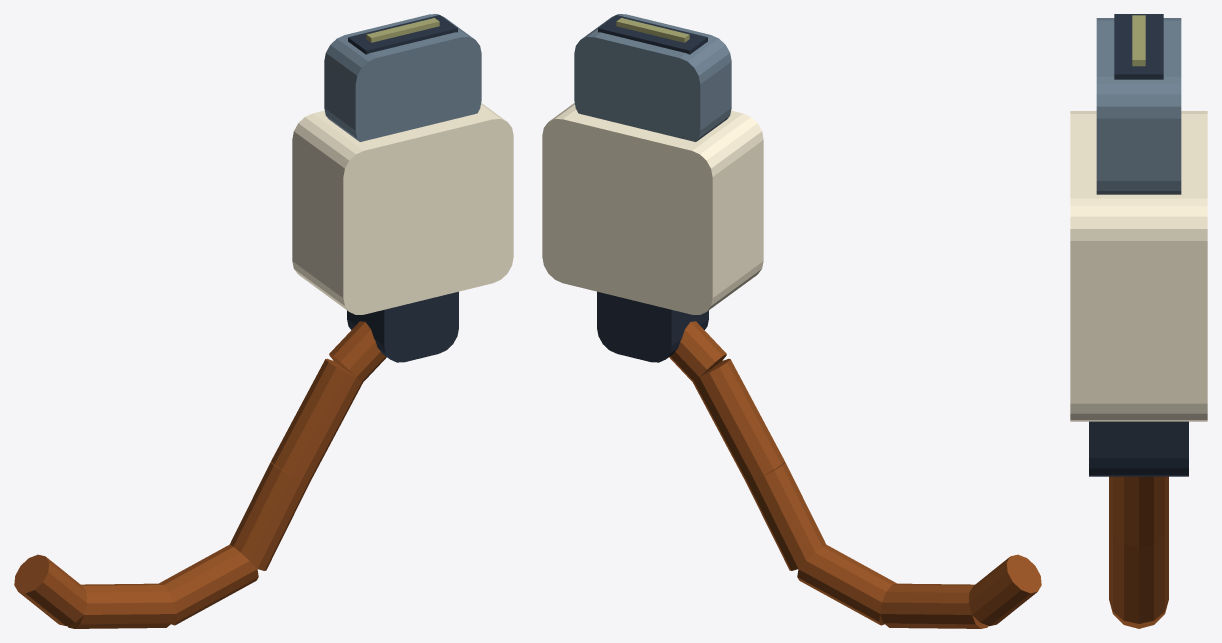
File: usbc.glb
3 views of the same model, side by side, from view 1: azimuth 30°, elevation 25°; view 2: azimuth 150°, elevation 25°; view 3: azimuth 270°, elevation 25° (orthographic). The views are drawn at different scales.
Parts seen in each view (by area): view 1: plug sleeve, metal plug, rubber cable4, strain relief, rubber cable3, rubber cable1, rubber cable2, rubber cable0, rubber cable5, plug opening, contact tongue; view 2: plug sleeve, metal plug, rubber cable4, strain relief, rubber cable3, rubber cable1, rubber cable2, rubber cable0, rubber cable5, plug opening, contact tongue; view 3: plug sleeve, metal plug, strain relief, rubber cable3, rubber cable4, plug opening, contact tongue, rubber cable2.
Part boxes in pixels (left/top/right/bottom): plug sleeve: left=292, top=103, right=513, bottom=314; metal plug: left=324, top=14, right=481, bottom=141; rubber cable4: left=271, top=358, right=362, bottom=481; strain relief: left=347, top=291, right=458, bottom=362; rubber cable3: left=230, top=462, right=309, bottom=570; rubber cable1: left=67, top=583, right=175, bottom=628; rubber cable2: left=159, top=544, right=258, bottom=625; rubber cable0: left=14, top=554, right=87, bottom=626; rubber cable5: left=329, top=321, right=386, bottom=381; plug opening: left=348, top=15, right=457, bottom=54; contact tongue: left=366, top=18, right=439, bottom=42; plug sleeve: left=542, top=103, right=763, bottom=314; metal plug: left=574, top=14, right=731, bottom=141; rubber cable4: left=693, top=358, right=784, bottom=481; strain relief: left=597, top=291, right=708, bottom=362; rubber cable3: left=746, top=462, right=825, bottom=570; rubber cable1: left=880, top=583, right=988, bottom=628; rubber cable2: left=797, top=544, right=896, bottom=625; rubber cable0: left=968, top=554, right=1041, bottom=626; rubber cable5: left=669, top=321, right=726, bottom=381; plug opening: left=598, top=15, right=707, bottom=54; contact tongue: left=616, top=18, right=689, bottom=42; plug sleeve: left=1070, top=111, right=1207, bottom=421; metal plug: left=1096, top=18, right=1181, bottom=194; strain relief: left=1089, top=421, right=1188, bottom=476; rubber cable3: left=1109, top=524, right=1168, bottom=623; rubber cable4: left=1109, top=476, right=1168, bottom=547; plug opening: left=1114, top=14, right=1163, bottom=79; contact tongue: left=1132, top=15, right=1145, bottom=66; rubber cable2: left=1109, top=602, right=1168, bottom=628.
Bounding box in the file's own units: 1.38 × 1.51 × 0.26.
